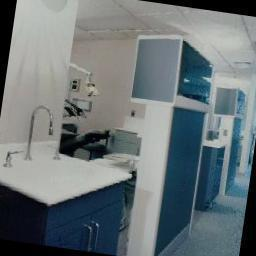Lavamanos: (0, 97, 135, 219)
